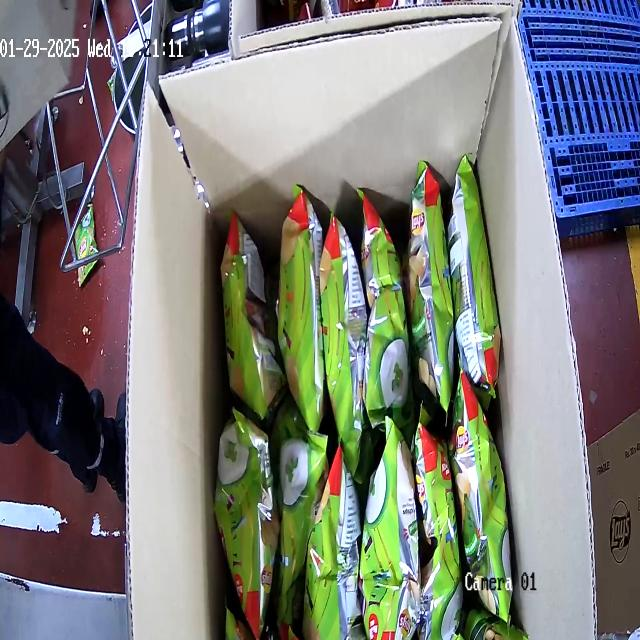YOGURT_HERB: (212, 155, 519, 638)
